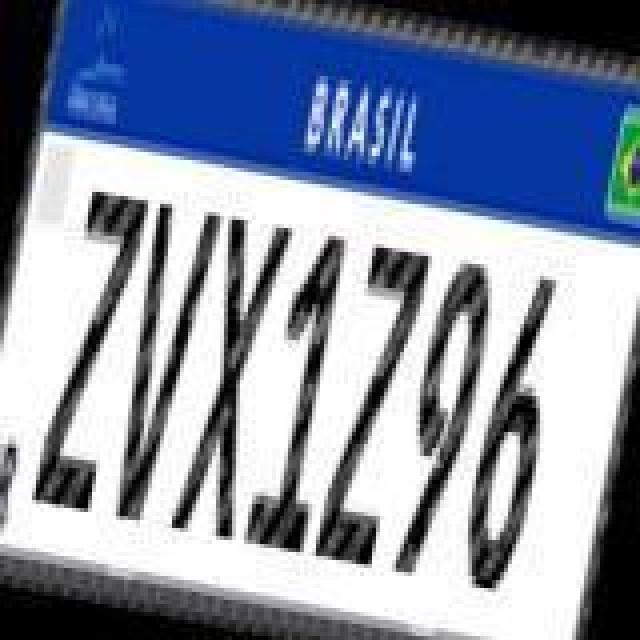1: (240, 224, 368, 560)
6: (448, 264, 576, 600)
9: (378, 246, 502, 586)
V: (96, 196, 224, 532)
X: (166, 210, 298, 542)
Z: (310, 236, 434, 572), (26, 186, 150, 518)
